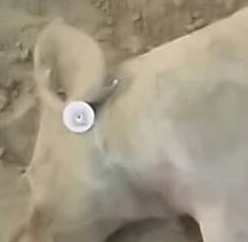text: (56, 90, 110, 143)
